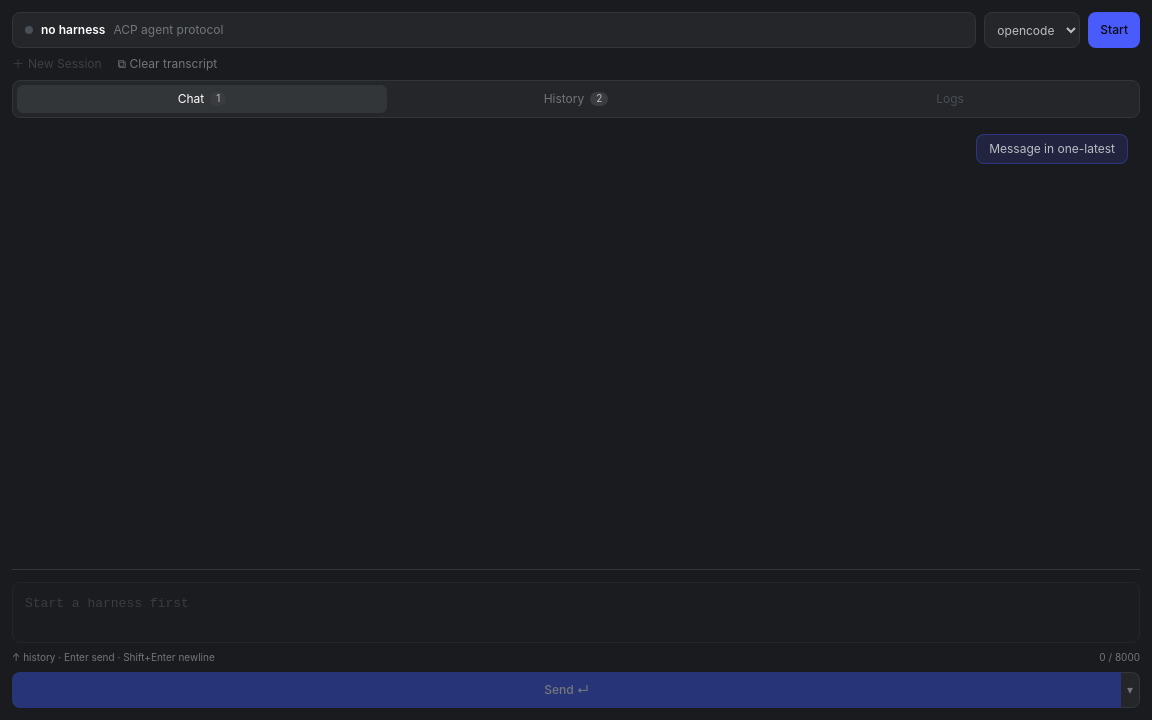
it: clearing the displayed agent transcript › does not restore a cleared transcript from a pending project reload
Click the button "⧉ Clear transcript": coordinates (167, 64) [118,56,217,72]
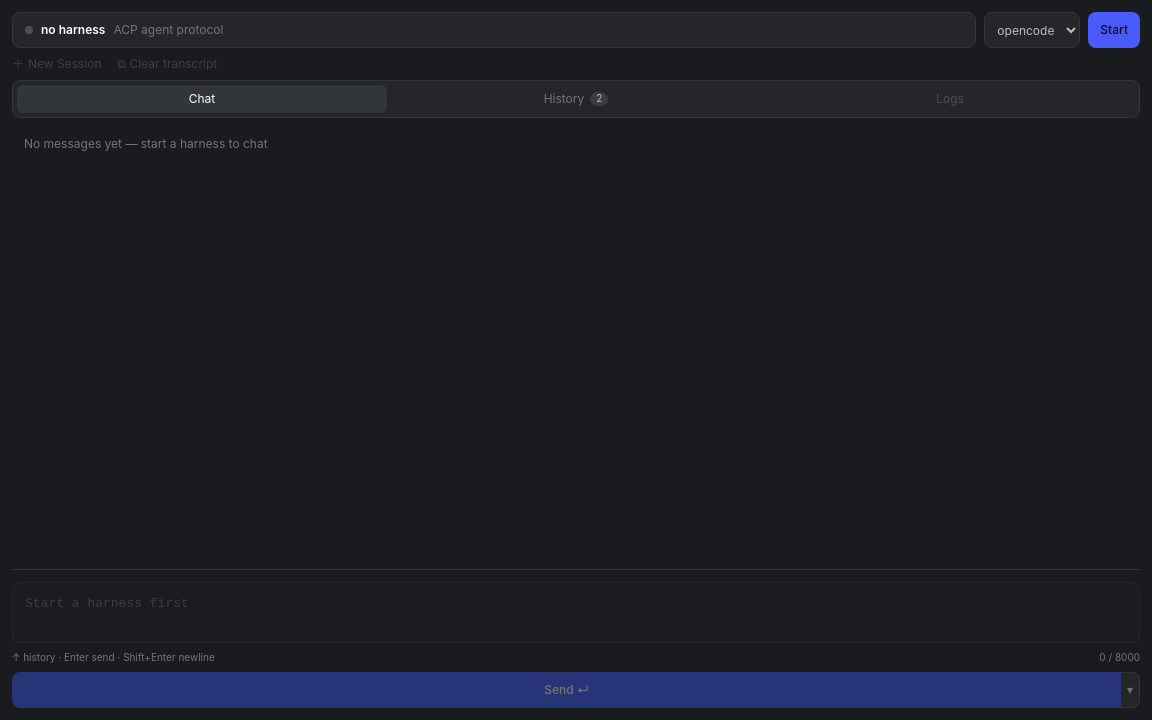
Check: the button "⧉ Clear transcript" is disabled, box [118,56,217,72]
